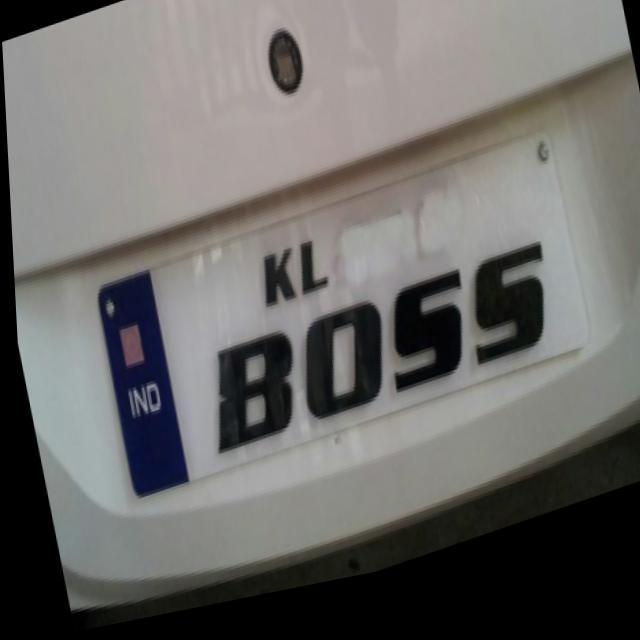license_plate: (91, 149, 590, 505)
